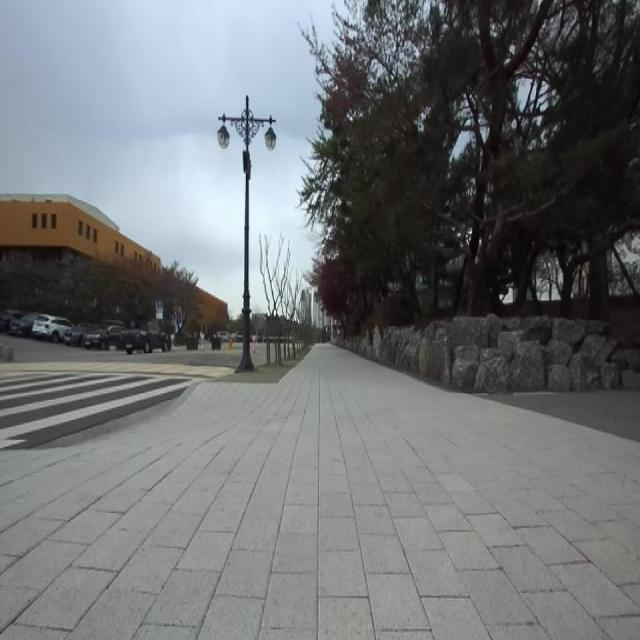sidewalk: (0, 344, 640, 639)
